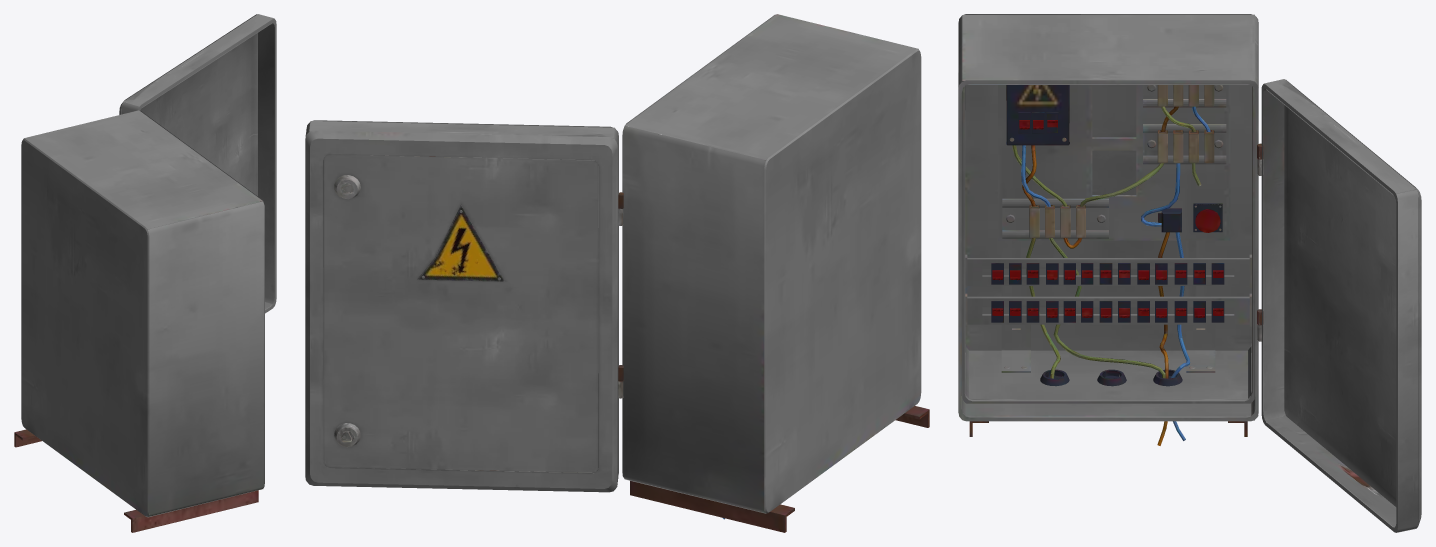
The model's file is e_cuadro_pequeno.glb.
The picture shows the model from 3 angles, left to right: view 1: azimuth 30°, elevation 25°; view 2: azimuth 150°, elevation 25°; view 3: azimuth 270°, elevation 25°; orthographic projection. The views are drawn at different scales.
Visible parts, largest first — view 1: defaultMaterial; view 2: defaultMaterial; view 3: defaultMaterial.
Boxes of the visible parts, left/top/right/bottom form: defaultMaterial: left=14, top=14, right=276, bottom=532; defaultMaterial: left=305, top=14, right=929, bottom=532; defaultMaterial: left=958, top=14, right=1421, bottom=532.
Size of the model in its own units: 0.5575 by 0.55 by 0.5825.
2 materials, 2 textured.
